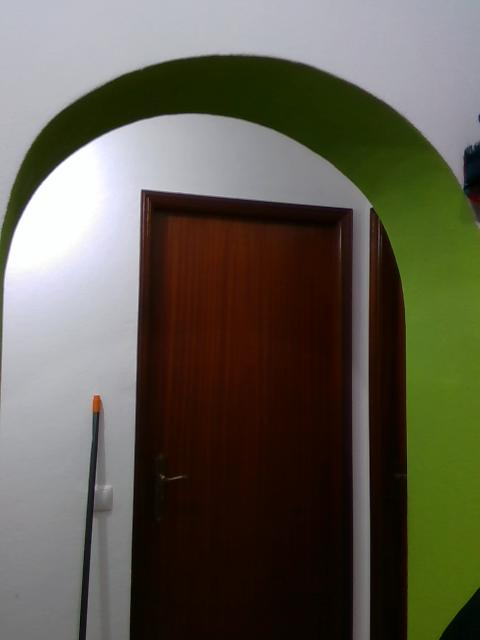door: (151, 219, 339, 634)
